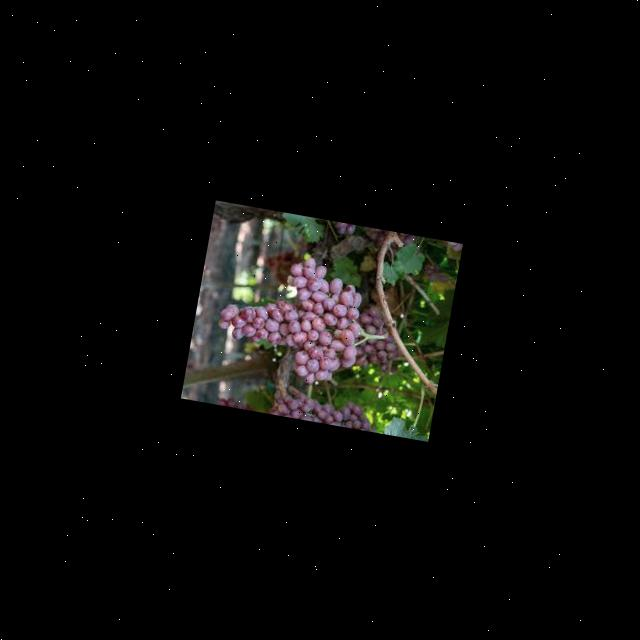grape: (209, 243, 413, 398)
